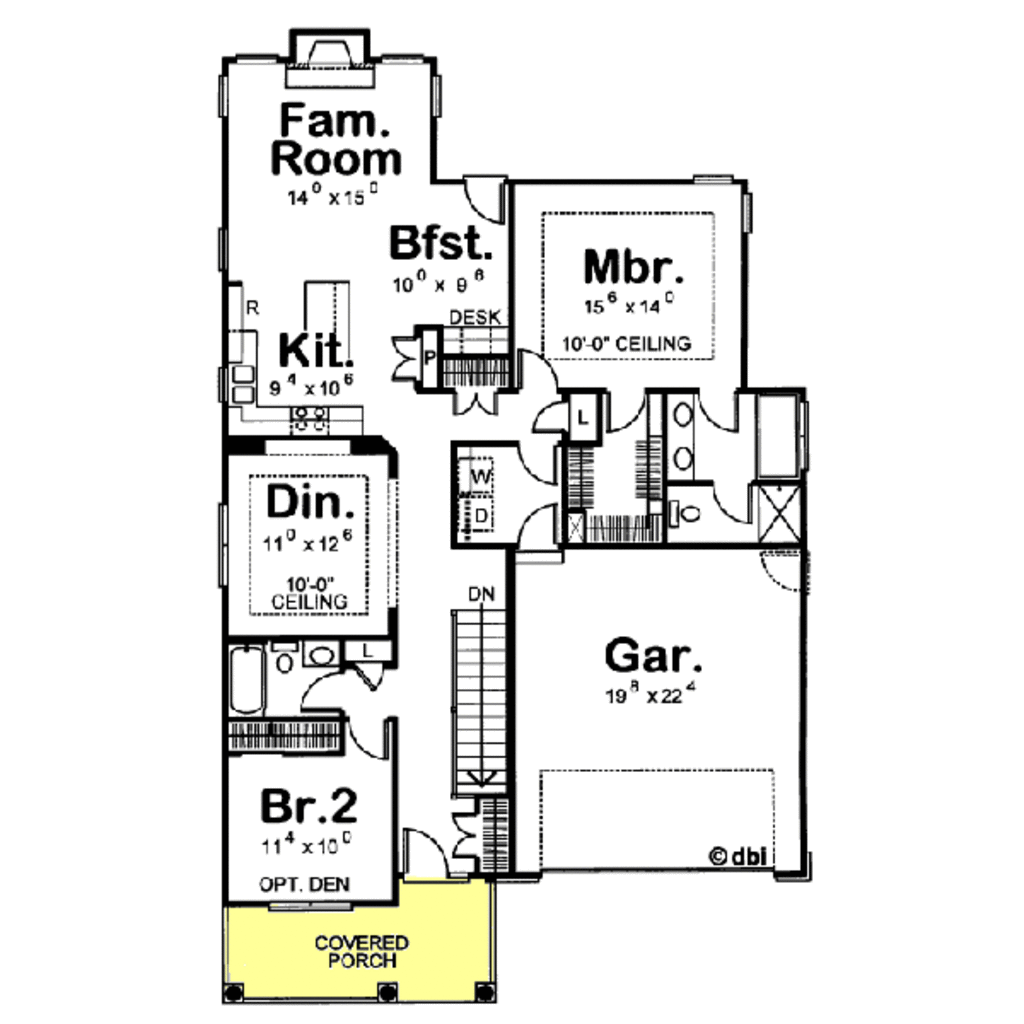door: (505, 497, 576, 566), (386, 825, 462, 882), (459, 168, 518, 227), (694, 387, 746, 446), (513, 344, 565, 400), (702, 470, 751, 527), (343, 714, 397, 765), (595, 382, 646, 436), (433, 381, 502, 419), (294, 671, 352, 716), (511, 435, 559, 485), (448, 808, 487, 865), (386, 332, 422, 384), (525, 398, 567, 433)
large_sink: (268, 636, 300, 679), (660, 503, 700, 535)
small_sink: (665, 390, 694, 481), (298, 632, 348, 670)
stairs: (443, 600, 529, 806)
tub: (221, 639, 265, 717)
twin_sink: (224, 358, 268, 409)
window: (211, 500, 235, 590), (208, 71, 241, 133), (265, 895, 351, 916), (211, 224, 240, 278), (733, 195, 765, 238), (422, 68, 446, 120), (689, 168, 730, 192)
